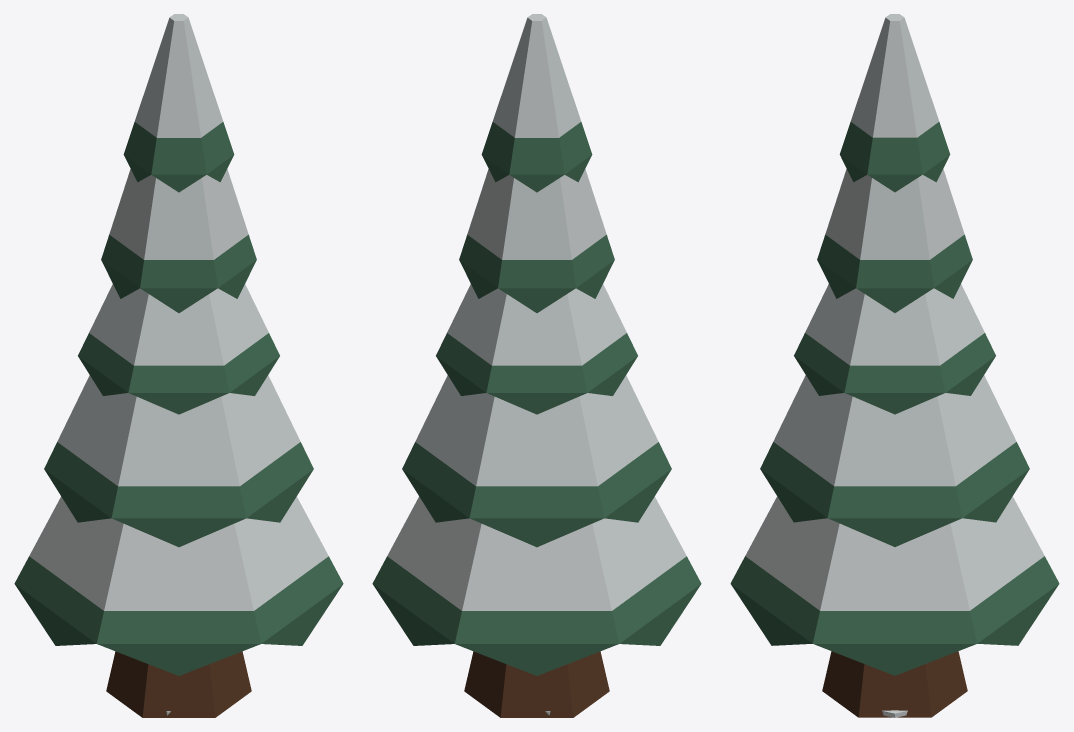
File: tree_pineRoundC_winter.glb
3 renders of one model, left to right at view 1: azimuth 30°, elevation 25°; view 2: azimuth 150°, elevation 25°; view 3: azimuth 270°, elevation 25°, orthographic.
Parts seen in each view (by area): view 1: geometry; view 2: geometry; view 3: geometry.
Part boxes in pixels (<box>): geometry: <box>14,14,343,717</box>; geometry: <box>372,14,701,717</box>; geometry: <box>730,14,1059,717</box>.
Size of the model in its own units: 0.4804 by 1.25 by 0.5547.
